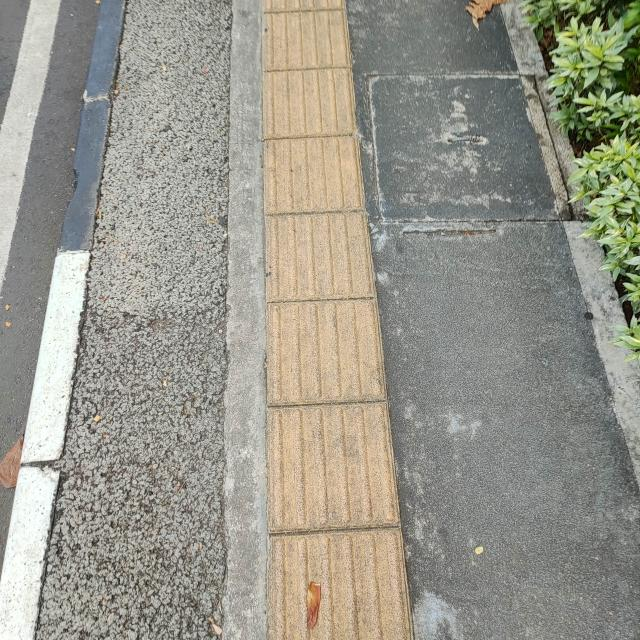lurus: (245, 0, 430, 640)
